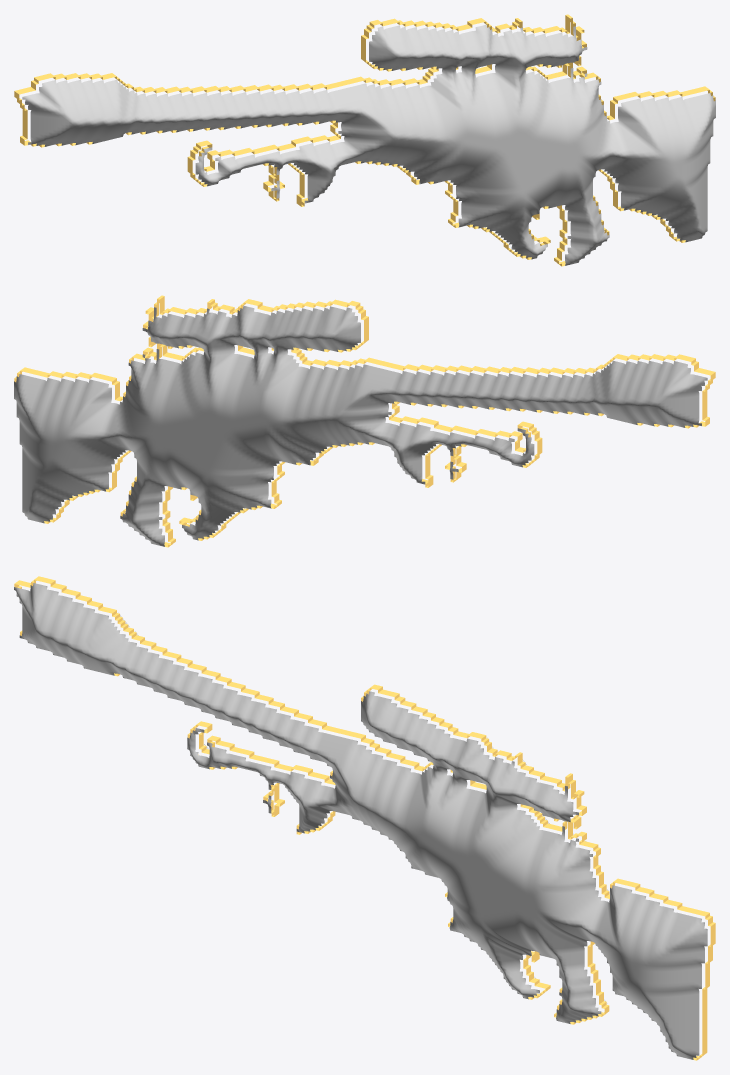
The model's file is codm-dlq33-lightbringer.glb.
3 renders of one model, top to bottom at view 1: azimuth 30°, elevation 25°; view 2: azimuth 150°, elevation 25°; view 3: azimuth 330°, elevation 25°, orthographic.
Visible parts, largest first — view 1: projected-skin, silhouette-edge; view 2: projected-skin, silhouette-edge; view 3: projected-skin, silhouette-edge.
Part boxes in pixels (x1=…): projected-skin: x1=22, y1=24, x2=715, y2=265; silhouette-edge: x1=14, y1=14, x2=715, y2=266; projected-skin: x1=14, y1=305, x2=707, y2=546; silhouette-edge: x1=14, y1=295, x2=715, y2=547; projected-skin: x1=14, y1=583, x2=707, y2=1059; silhouette-edge: x1=14, y1=576, x2=715, y2=1060.
Bounding box in the file's own units: 0.9765 × 0.4275 × 0.104.
